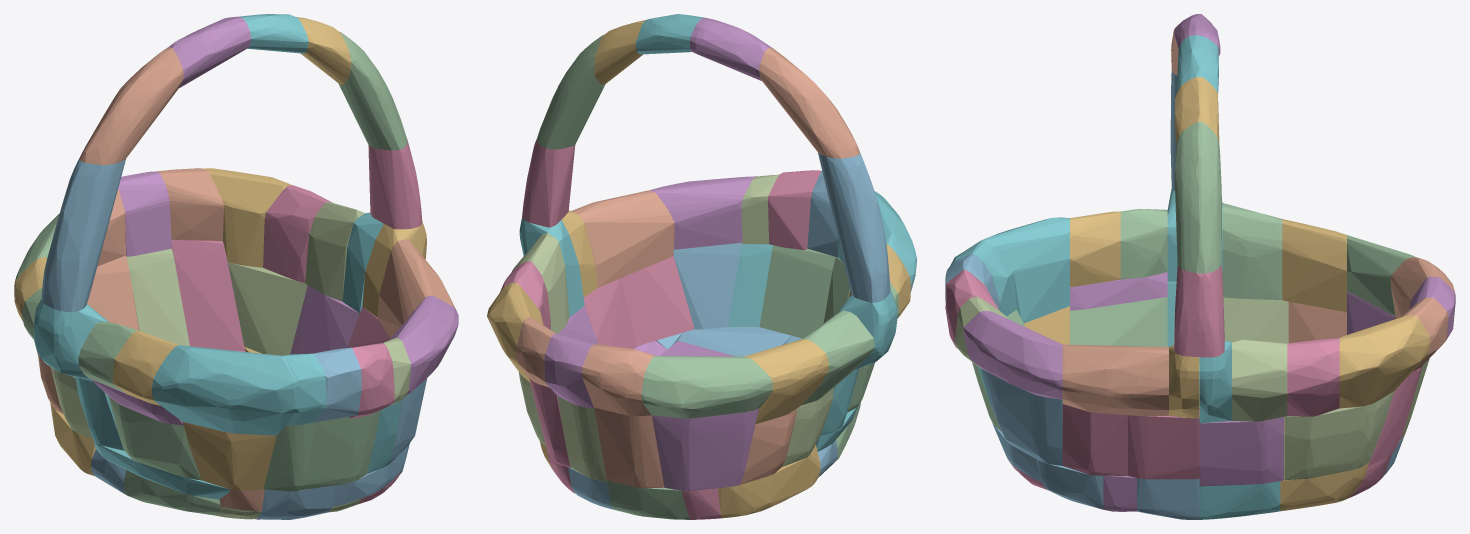
Rendered from basket_collision.glb.
3 views of the same model, side by side, from view 1: azimuth 30°, elevation 25°; view 2: azimuth 150°, elevation 25°; view 3: azimuth 270°, elevation 25° (orthographic). The views are drawn at different scales.
Visible parts, largest first — view 1: world; view 2: world; view 3: world.
Part boxes in pixels (x1,y1,x2,y2): world: (14,14,458,519); world: (487,14,916,519); world: (945,14,1455,519).
Size of the model in its own units: 0.3174 by 0.3517 by 0.3752.
